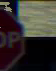Stop: (1, 7, 30, 70)
